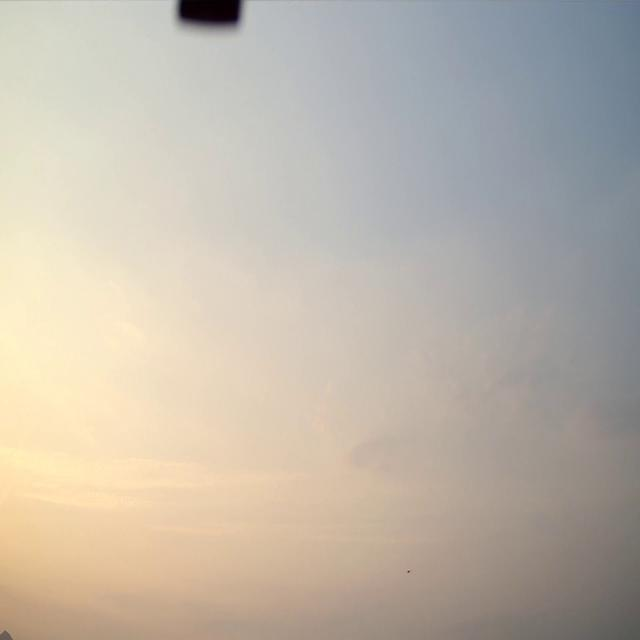drone: (406, 569, 412, 573)
